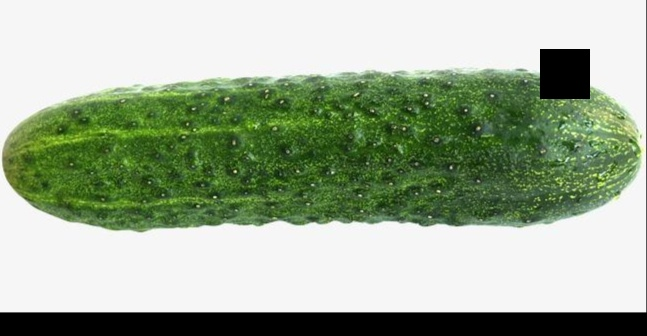cucumber: (3, 66, 643, 229)
